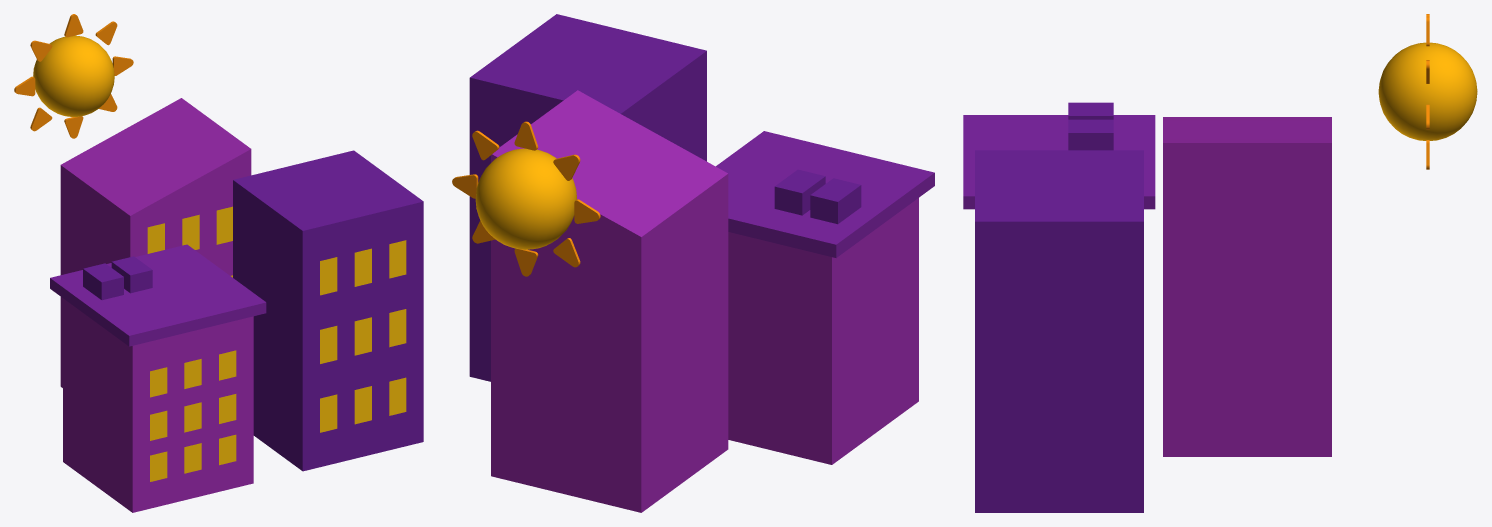
File: sunset.glb
3 views of the same model, side by side, from view 1: azimuth 30°, elevation 25°; view 2: azimuth 150°, elevation 25°; view 3: azimuth 270°, elevation 25° (orthographic). The views are drawn at different scales.
Visible parts, largest first — view 1: Cube.535, Cube.538, Cube.539, Cube.536; view 2: Cube.539, Cube.538, Cube.535, Cube.536; view 3: Cube.535, Cube.539, Cube.538, Cube.536.
Part boxes in pixels (bbox=[...]): Cube.535: bbox=[233, 150, 423, 471]; Cube.538: bbox=[50, 244, 266, 512]; Cube.539: bbox=[60, 98, 251, 387]; Cube.536: bbox=[14, 14, 133, 138]; Cube.539: bbox=[491, 90, 728, 512]; Cube.538: bbox=[716, 131, 934, 464]; Cube.535: bbox=[469, 14, 706, 381]; Cube.536: bbox=[452, 121, 600, 276]; Cube.535: bbox=[975, 150, 1143, 512]; Cube.539: bbox=[1163, 117, 1331, 456]; Cube.538: bbox=[963, 102, 1155, 209]; Cube.536: bbox=[1378, 14, 1477, 169].
Size of the model in its own units: 1.98 by 2.09 by 2.43.
1 material, 1 textured.
